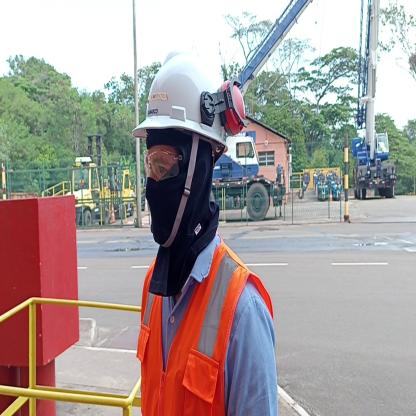Balaclava: (146, 132, 218, 243)
Capacete: (142, 49, 233, 131)
colete: (144, 261, 235, 416)
